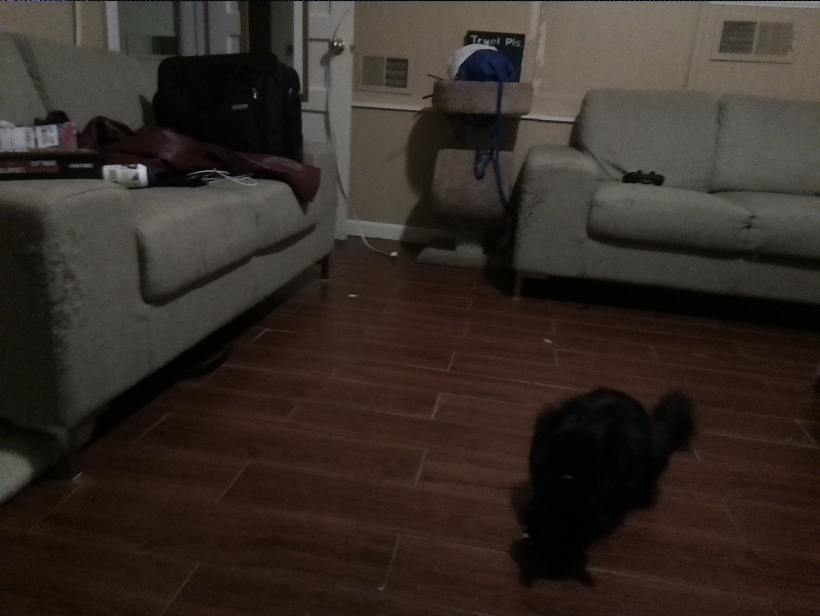cat: (502, 365, 703, 589)
